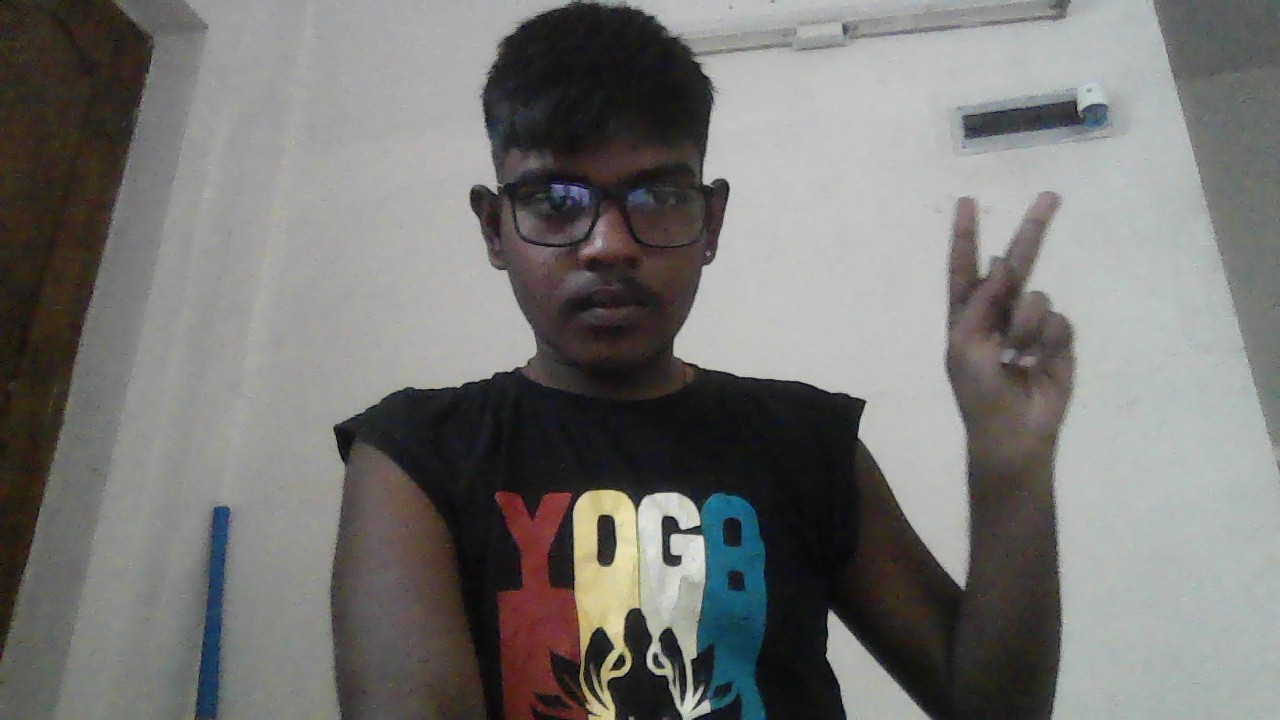K: (947, 189, 1074, 465)
